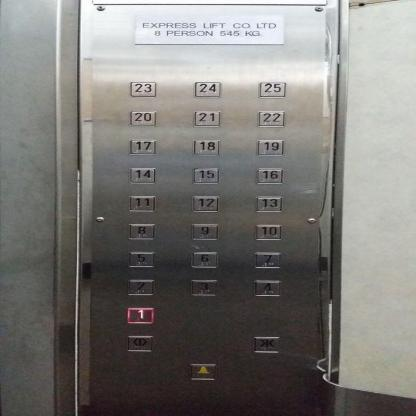1: (124, 306, 155, 324)
10: (250, 223, 282, 241)
11: (125, 194, 155, 212)
12: (188, 194, 221, 212)
13: (253, 194, 286, 214)
14: (124, 165, 159, 186)
15: (190, 166, 224, 184)
16: (251, 164, 287, 186)
17: (125, 138, 159, 157)
18: (187, 139, 221, 158)
19: (251, 138, 287, 158)
2: (125, 279, 156, 296)
20: (125, 110, 157, 126)
21: (189, 108, 222, 128)
22: (251, 108, 287, 128)
23: (126, 81, 158, 98)
24: (190, 82, 224, 100)
25: (256, 81, 287, 99)
3: (184, 278, 220, 299)
4: (249, 280, 284, 298)
5: (125, 250, 155, 267)
6: (186, 251, 219, 269)
7: (250, 252, 282, 268)
8: (126, 222, 155, 241)
9: (188, 222, 220, 240)
alarm: (184, 362, 218, 382)
close: (253, 335, 280, 354)
open: (123, 334, 156, 352)
